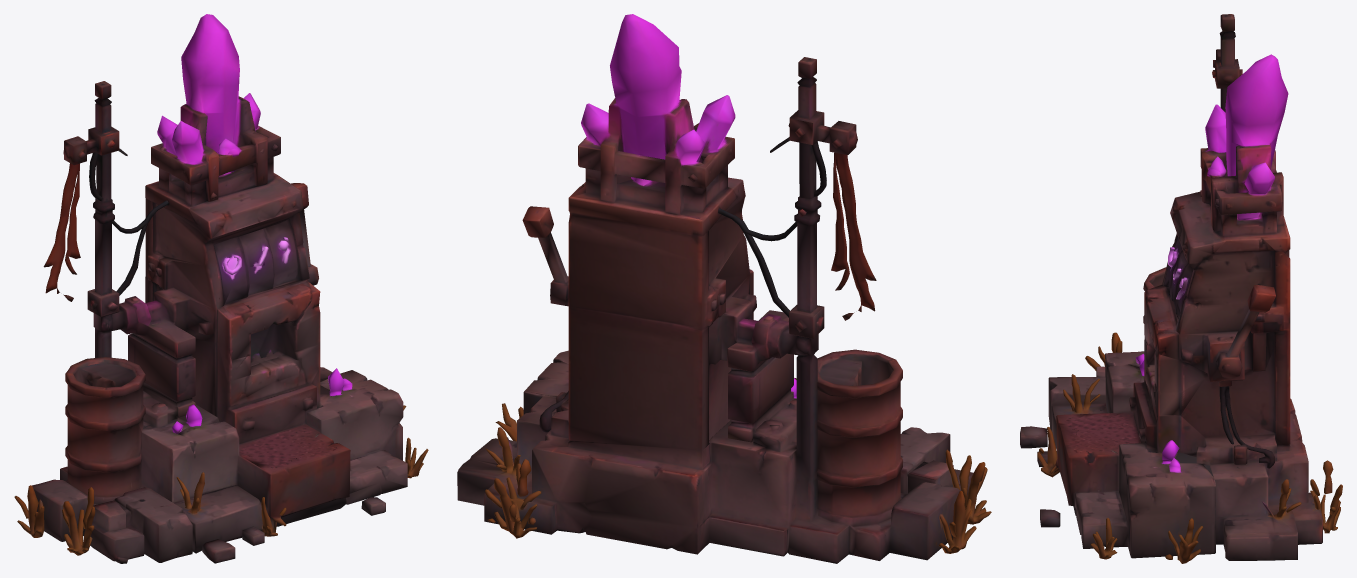
The model's file is gamble_shrine.glb.
The picture shows the model from 3 angles, left to right: view 1: azimuth 30°, elevation 25°; view 2: azimuth 150°, elevation 25°; view 3: azimuth 270°, elevation 25°; orthographic projection. The views are drawn at different scales.
Visible parts, largest first — view 1: tripo_node_52ba2512-e9d8-48b6-b34f-e7559de420ad; view 2: tripo_node_52ba2512-e9d8-48b6-b34f-e7559de420ad; view 3: tripo_node_52ba2512-e9d8-48b6-b34f-e7559de420ad.
Part boxes in pixels (box(x1,y1,x2,y2)): tripo_node_52ba2512-e9d8-48b6-b34f-e7559de420ad: box(14, 14, 428, 563); tripo_node_52ba2512-e9d8-48b6-b34f-e7559de420ad: box(457, 14, 991, 563); tripo_node_52ba2512-e9d8-48b6-b34f-e7559de420ad: box(1020, 14, 1342, 563).
Bounding box in the file's own units: 0.9315 × 1 × 0.6614.
1 material, 1 textured.
